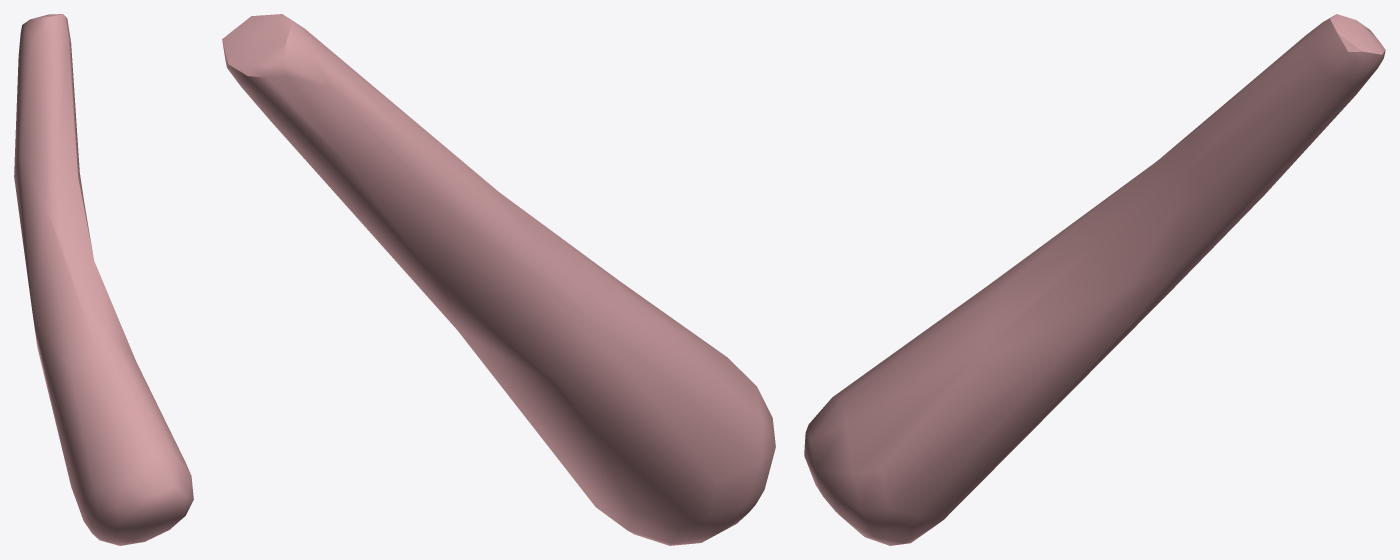
Rendered from fma68211_fj6553.glb.
3 views of the same model, side by side, from view 1: azimuth 30°, elevation 25°; view 2: azimuth 150°, elevation 25°; view 3: azimuth 270°, elevation 25° (orthographic). The views are drawn at different scales.
Parts seen in each view (by area): view 1: FMA68211_FJ6553; view 2: FMA68211_FJ6553; view 3: FMA68211_FJ6553.
Boxes of the visible parts, box(x1,y1,x2,y2) form: FMA68211_FJ6553: box(14, 14, 193, 545); FMA68211_FJ6553: box(222, 14, 775, 545); FMA68211_FJ6553: box(804, 14, 1385, 545).
Bounding box in the file's own units: 0.00364 × 0.00948 × 0.00878.
